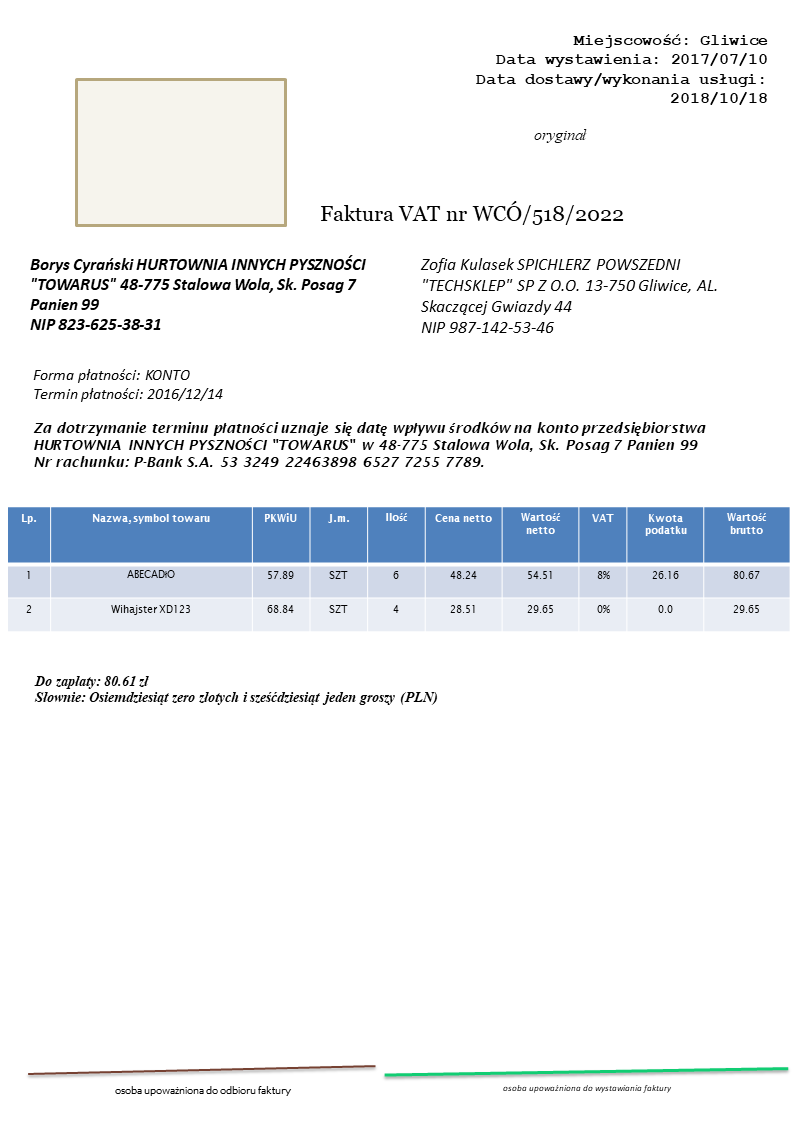Table: (3, 503, 792, 631)
TextBox: (30, 417, 709, 471), (28, 254, 367, 335), (418, 254, 721, 338), (472, 30, 776, 108), (29, 671, 442, 710), (317, 199, 627, 229), (28, 365, 225, 404), (109, 1082, 291, 1101), (500, 1080, 673, 1097), (533, 126, 589, 146)
